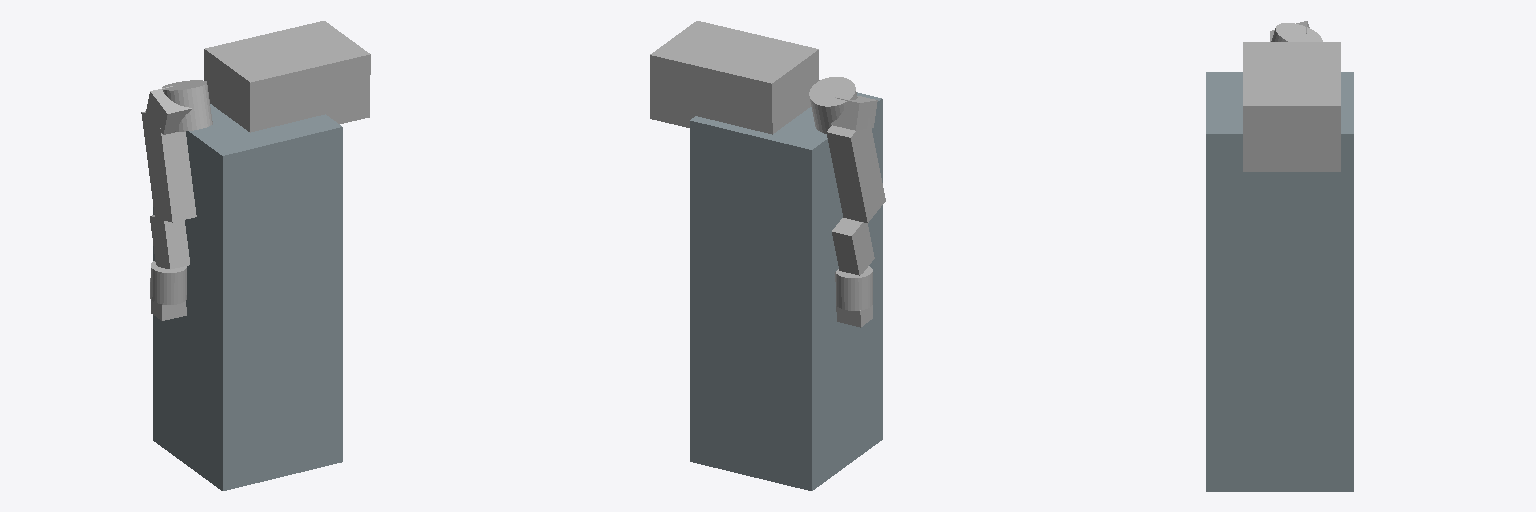
The robot description file, URDF, robot "arha_description":
<?xml version="1.0" encoding="utf-8"?>
<!-- Simplified version for MoveIt Setup Assistant - uses basic shapes instead of meshes -->
<robot name="arha_description">
  <link name="world_link"/>
  <joint name="world_joint" type="fixed">
    <parent link="world_link"/>
    <child link="base_link"/>
    <origin xyz="0 0 0" rpy="0 0 0"/>
  </joint>

  <link name="base_link">
    <inertial>
      <origin xyz="0.00486222622577581 0.45717497743252 -0.0249847706754774" rpy="0 0 0" />
      <mass value="50.0" />
      <inertia
        ixx="0.045250217381864"
        ixy="-0.000391647507311458"
        ixz="-1.16032760425876E-18"
        iyy="0.000375276048602199"
        iyz="-9.77511439648212E-18"
        izz="0.0452536352378809" />
    </inertial>
    <visual>
      <origin xyz="0 0 0.4" rpy="0 0 0" />
      <geometry>
        <box size="0.3 0.3 0.8"/>
      </geometry>
      <material name="grey">
        <color rgba="0.6 0.65 0.67 1" />
      </material>
    </visual>
    <collision>
      <origin xyz="0 0 0.4" rpy="0 0 0" />
      <geometry>
        <box size="0.3 0.3 0.8"/>
      </geometry>
    </collision>
  </link>

  <link name="chest_link">
    <inertial>
      <origin xyz="-0.103578651729946 -0.000788072396643393 -0.0161664731766626" rpy="0 0 0" />
      <mass value="1.36841316789851" />
      <inertia
        ixx="0.00489050738637658"
        ixy="-1.05236493836224E-06"
        ixz="3.5996291040505E-07"
        iyy="0.00618645338476801"
        iyz="9.75907806329965E-05"
        izz="0.00331113448739452" />
    </inertial>
    <visual>
      <origin xyz="0 0 0" rpy="0 0 0" />
      <geometry>
        <box size="0.3 0.2 0.15"/>
      </geometry>
      <material name="grey">
        <color rgba="0.75 0.75 0.75 1" />
      </material>
    </visual>
    <collision>
      <origin xyz="0 0 0" rpy="0 0 0" />
      <geometry>
        <box size="0.3 0.2 0.15"/>
      </geometry>
    </collision>
  </link>

  <joint name="chest_joint" type="fixed">
    <origin xyz="0.11179 0.024169 0.84302" rpy="0 0.0087266 0" />
    <parent link="base_link" />
    <child link="chest_link" />
    <axis xyz="0 0 0" />
  </joint>

  <link name="ShoulderRU_link">
    <inertial>
      <origin xyz="0.000633904463091112 0.0632876622043777 0.000131520545503583" rpy="0 0 0" />
      <mass value="0.437859351944568" />
      <inertia
        ixx="0.000761320903037865"
        ixy="0.00010323291048724"
        ixz="5.11545980849188E-05"
        iyy="0.000480494505765443"
        iyz="3.08585694704881E-05"
        izz="0.000607510739616738" />
    </inertial>
    <visual>
      <origin xyz="0 0.046 0" rpy="0 0 0" />
      <geometry>
        <cylinder radius="0.05" length="0.092"/>
      </geometry>
      <material name="grey">
        <color rgba="0.75 0.75 0.75 1" />
      </material>
    </visual>
    <collision>
      <origin xyz="0 0.046 0" rpy="0 0 0" />
      <geometry>
        <cylinder radius="0.05" length="0.092"/>
      </geometry>
    </collision>
  </link>

  <joint name="ShoulderRU_joint" type="revolute">
    <origin xyz="-0.20263 0.0018367 0" rpy="3.1416 -0.28499 -1.5708" />
    <parent link="chest_link" />
    <child link="ShoulderRU_link" />
    <axis xyz="0 1 0" />
    <limit lower="-1.5708" upper="1.5708" effort="100" velocity="5.235988" />
  </joint>

  <link name="ShoulderRD_link">
    <inertial>
      <origin xyz="0.0130603185121422 4.03570967780209E-05 -0.0159605216469788" rpy="0 0 0" />
      <mass value="0.121271833885802" />
      <inertia
        ixx="0.000264584071728155"
        ixy="-1.73910560956384E-07"
        ixz="2.35095904760613E-05"
        iyy="0.0002153613724785"
        iyz="2.22817405287246E-08"
        izz="0.000144313566137142" />
    </inertial>
    <visual>
      <origin xyz="0 0 0" rpy="0 0 0" />
      <geometry>
        <box size="0.08 0.06 0.06"/>
      </geometry>
      <material name="grey">
        <color rgba="0.75 0.75 0.75 1" />
      </material>
    </visual>
    <collision>
      <origin xyz="0 0 0" rpy="0 0 0" />
      <geometry>
        <box size="0.08 0.06 0.06"/>
      </geometry>
    </collision>
  </link>

  <joint name="ShoulderRD_joint" type="revolute">
    <origin xyz="0 0.091943 0" rpy="3.1389 -0.58853 0.00081251" />
    <parent link="ShoulderRU_link" />
    <child link="ShoulderRD_link" />
    <axis xyz="0.95701 0 0.29004" />
    <limit lower="-1.5708" upper="0" effort="60" velocity="4.1888" />
  </joint>

  <link name="ElbowRU_link">
    <inertial>
      <origin xyz="0.056819807604414 0.00130441079169116 -0.161248980507902" rpy="0 0 0" />
      <mass value="0.43543149660162" />
      <inertia
        ixx="0.00116072652976023"
        ixy="8.04351173911062E-06"
        ixz="0.000205352258430429"
        iyy="0.00150791924798473"
        iyz="4.82193415065212E-07"
        izz="0.000545520215244939" />
    </inertial>
    <visual>
      <origin xyz="0.04 0 -0.118" rpy="0 0 0" />
      <geometry>
        <box size="0.08 0.06 0.236"/>
      </geometry>
      <material name="grey">
        <color rgba="0.75 0.75 0.75 1" />
      </material>
    </visual>
    <collision>
      <origin xyz="0.04 0 -0.118" rpy="0 0 0" />
      <geometry>
        <box size="0.08 0.06 0.236"/>
      </geometry>
    </collision>
  </link>

  <joint name="ElbowRU_joint" type="revolute">
    <origin xyz="0.01 0 0" rpy="-0.00017185 0.58853 3.1301" />
    <parent link="ShoulderRD_link" />
    <child link="ElbowRU_link" />
    <axis xyz="0.29004 -0.0015904 -0.95701" />
    <limit lower="-1.5708" upper="1.5708" effort="20" velocity="19.897" />
  </joint>

  <link name="ElbowRD_link">
    <inertial>
      <origin xyz="0.01501721253576 -0.0140086375733101 -0.0537845978405951" rpy="0 0 0" />
      <mass value="0.405367838897484" />
      <inertia
        ixx="0.000676246989908249"
        ixy="5.55176945002612E-06"
        ixz="6.42141075201969E-05"
        iyy="0.0008794061843227"
        iyz="4.50678755869984E-06"
        izz="0.000469982837398396" />
    </inertial>
    <visual>
      <origin xyz="0.016 -0.007 -0.056" rpy="0 0 0" />
      <geometry>
        <box size="0.065 0.05 0.112"/>
      </geometry>
      <material name="grey">
        <color rgba="0.75 0.75 0.75 1" />
      </material>
    </visual>
    <collision>
      <origin xyz="0.016 -0.007 -0.056" rpy="0 0 0" />
      <geometry>
        <box size="0.065 0.05 0.112"/>
      </geometry>
    </collision>
  </link>

  <joint name="ElbowRD_joint" type="revolute">
    <origin xyz="0.079705 -0.00060472 -0.23692" rpy="-4.9565E-05 -0.0018566 -1.1893E-05" />
    <parent link="ElbowRU_link" />
    <child link="ElbowRD_link" />
    <axis xyz="0.026692 0.99962 0.0064283" />
    <limit lower="0" upper="1.5708" effort="60" velocity="4.1888" />
  </joint>

  <link name="WristRU_link">
    <inertial>
      <origin xyz="0.00639012254804167 0.000136393641995469 0.0563198944392286" rpy="0 0 0" />
      <mass value="0.348222354843636" />
      <inertia
        ixx="0.000507501702429949"
        ixy="1.11373651928209E-07"
        ixz="-9.14391354779642E-05"
        iyy="0.000436522279637755"
        iyz="3.98581053072694E-07"
        izz="0.000266926646371092" />
    </inertial>
    <visual>
      <origin xyz="0 0 0.038" rpy="0 0 0" />
      <geometry>
        <cylinder radius="0.04" length="0.076"/>
      </geometry>
      <material name="grey">
        <color rgba="0.75 0.75 0.75 1" />
      </material>
    </visual>
    <collision>
      <origin xyz="0 0 0.038" rpy="0 0 0" />
      <geometry>
        <cylinder radius="0.04" length="0.076"/>
      </geometry>
    </collision>
  </link>

  <joint name="WristRU_joint" type="revolute">
    <origin xyz="0.032837 -0.0055583 -0.1128" rpy="2.8571 -0.002299 1.5582" />
    <parent link="ElbowRD_link" />
    <child link="WristRU_link" />
    <axis xyz="0 0 1" />
    <limit lower="-1.5708" upper="1.5708" effort="20" velocity="19.897" />
  </joint>

  <link name="WristRD_link">
    <inertial>
      <origin xyz="-0.0007891665998703 0.000668277029161484 0.0143918184359768" rpy="0 0 0" />
      <mass value="0.144157843696757" />
      <inertia
        ixx="0.000210718602074961"
        ixy="-6.96872467093026E-07"
        ixz="-1.50110128749547E-05"
        iyy="0.000173165649110249"
        iyz="-2.62309383761537E-06"
        izz="0.000116799346279209" />
    </inertial>
    <visual>
      <origin xyz="0 0 0.02" rpy="0 0 0" />
      <geometry>
        <box size="0.06 0.05 0.04"/>
      </geometry>
      <material name="grey">
        <color rgba="0.75 0.75 0.75 1" />
      </material>
    </visual>
    <collision>
      <origin xyz="0 0 0.02" rpy="0 0 0" />
      <geometry>
        <box size="0.06 0.05 0.04"/>
      </geometry>
    </collision>
  </link>

  <joint name="WristRD_joint" type="revolute">
    <origin xyz="0 0 0.076226" rpy="0.047691 0 0" />
    <parent link="WristRU_link" />
    <child link="WristRD_link" />
    <axis xyz="1 0 0" />
    <limit lower="-1.5708" upper="1.5708" effort="8" velocity="32.463" />
  </joint>
</robot>

--- Facts derived from the render (not from the file) ---
3 views of the same robot in one strip: view 1: azimuth 30°, elevation 25°; view 2: azimuth 150°, elevation 25°; view 3: azimuth 270°, elevation 25° (orthographic).
Model arha_description with 9 links and 8 joints (6 revolute, 2 fixed), rooted at world_link, posed all joints at 0.
Visible links, largest first — view 1: base_link, chest_link, ElbowRU_link, ShoulderRU_link, ElbowRD_link, WristRU_link, ShoulderRD_link; view 2: base_link, chest_link, ElbowRU_link, ElbowRD_link, ShoulderRU_link, WristRU_link, ShoulderRD_link, WristRD_link; view 3: base_link, chest_link, ShoulderRU_link.
Link boxes in pixels (x1,y1,x2,y2): base_link: [153, 104, 342, 490]; chest_link: [204, 21, 370, 132]; ElbowRU_link: [141, 111, 196, 222]; ShoulderRU_link: [162, 80, 212, 131]; ElbowRD_link: [150, 215, 189, 269]; WristRU_link: [150, 261, 186, 304]; ShoulderRD_link: [146, 86, 191, 134]; base_link: [690, 92, 882, 490]; chest_link: [650, 21, 819, 134]; ElbowRU_link: [826, 118, 885, 222]; ElbowRD_link: [832, 218, 874, 275]; ShoulderRU_link: [809, 77, 857, 133]; WristRU_link: [835, 266, 872, 310]; ShoulderRD_link: [831, 96, 877, 130]; WristRD_link: [836, 305, 872, 327]; base_link: [1206, 72, 1353, 491]; chest_link: [1243, 42, 1340, 171]; ShoulderRU_link: [1271, 23, 1322, 41].
Size in the robot's own frame: 0.4852 by 0.3 by 0.9193 metres.
Geometry: primitives only (box / cylinder / sphere), no mesh files.
